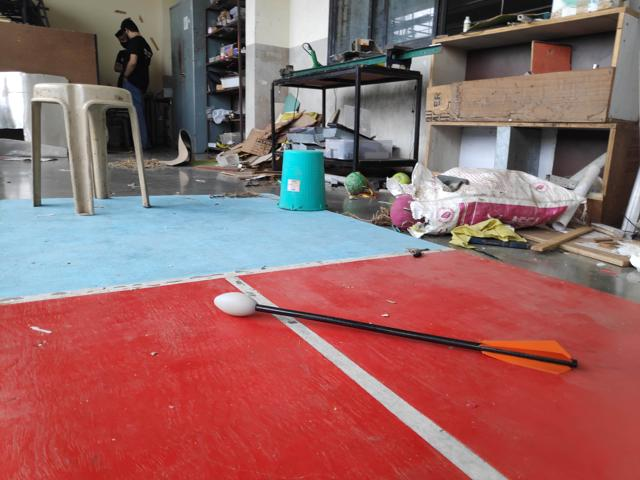Head: (211, 290, 258, 319)
Tail: (477, 335, 579, 378)
